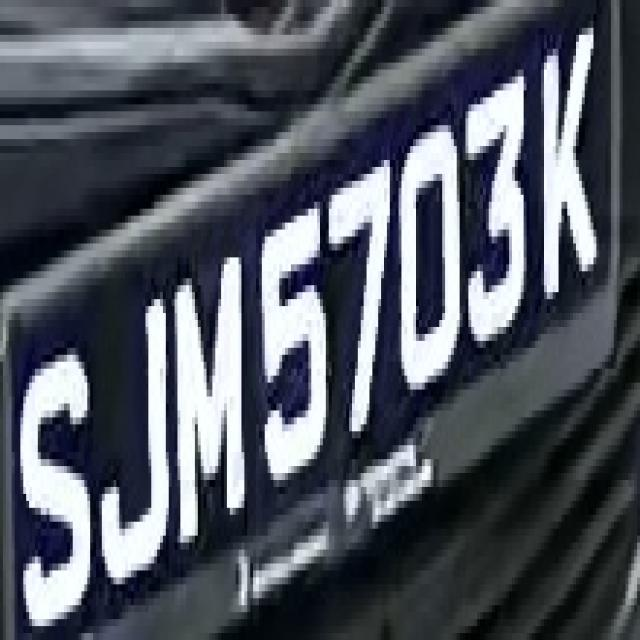0: (398, 125, 462, 397)
3: (460, 62, 535, 348)
5: (256, 202, 326, 466)
6: (320, 153, 396, 452)
J: (104, 278, 174, 592)
K: (535, 14, 602, 299)
M: (172, 250, 253, 556)
S: (3, 341, 102, 626)
